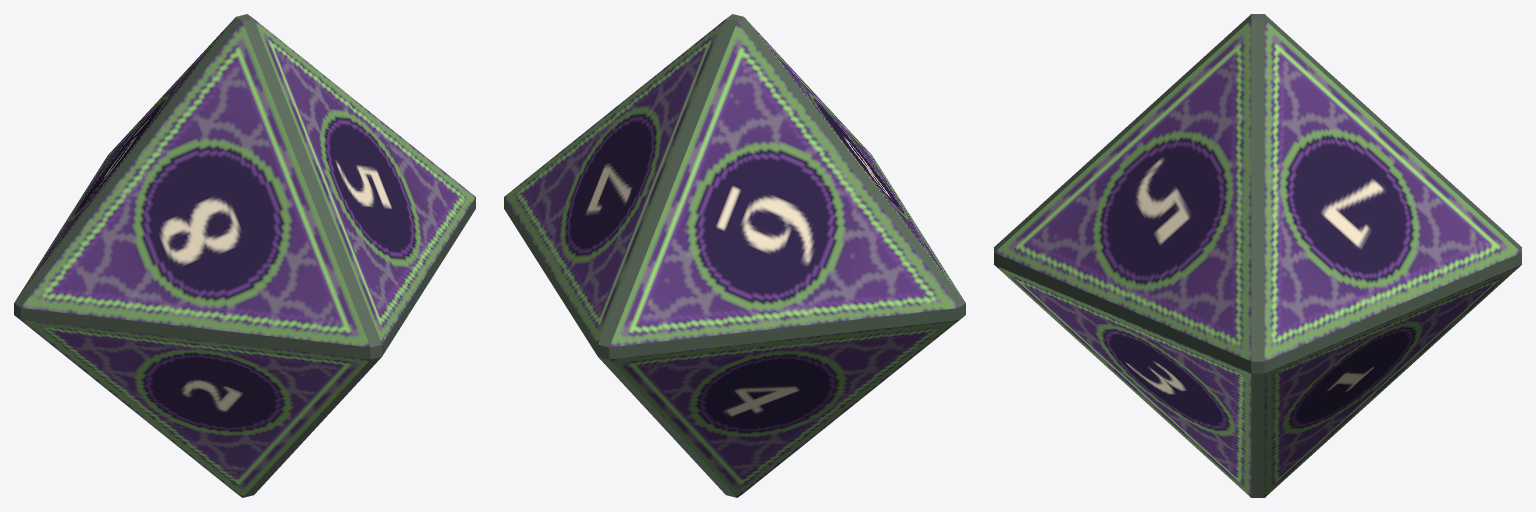
3 views of the same model, side by side, from view 1: azimuth 30°, elevation 25°; view 2: azimuth 150°, elevation 25°; view 3: azimuth 270°, elevation 25° (orthographic).
Bounding box in the file's own units: 198 × 198 × 198.
Materials: 1 (1 with a texture image).
